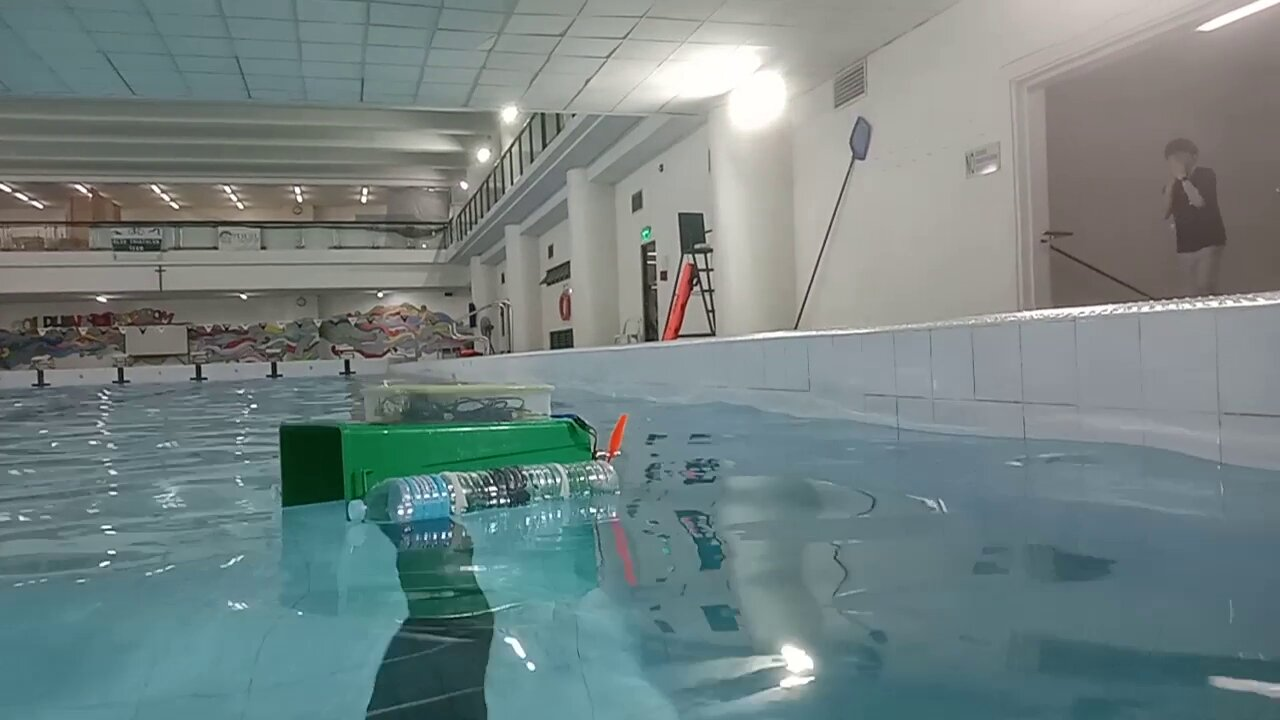drone: (280, 384, 627, 522)
